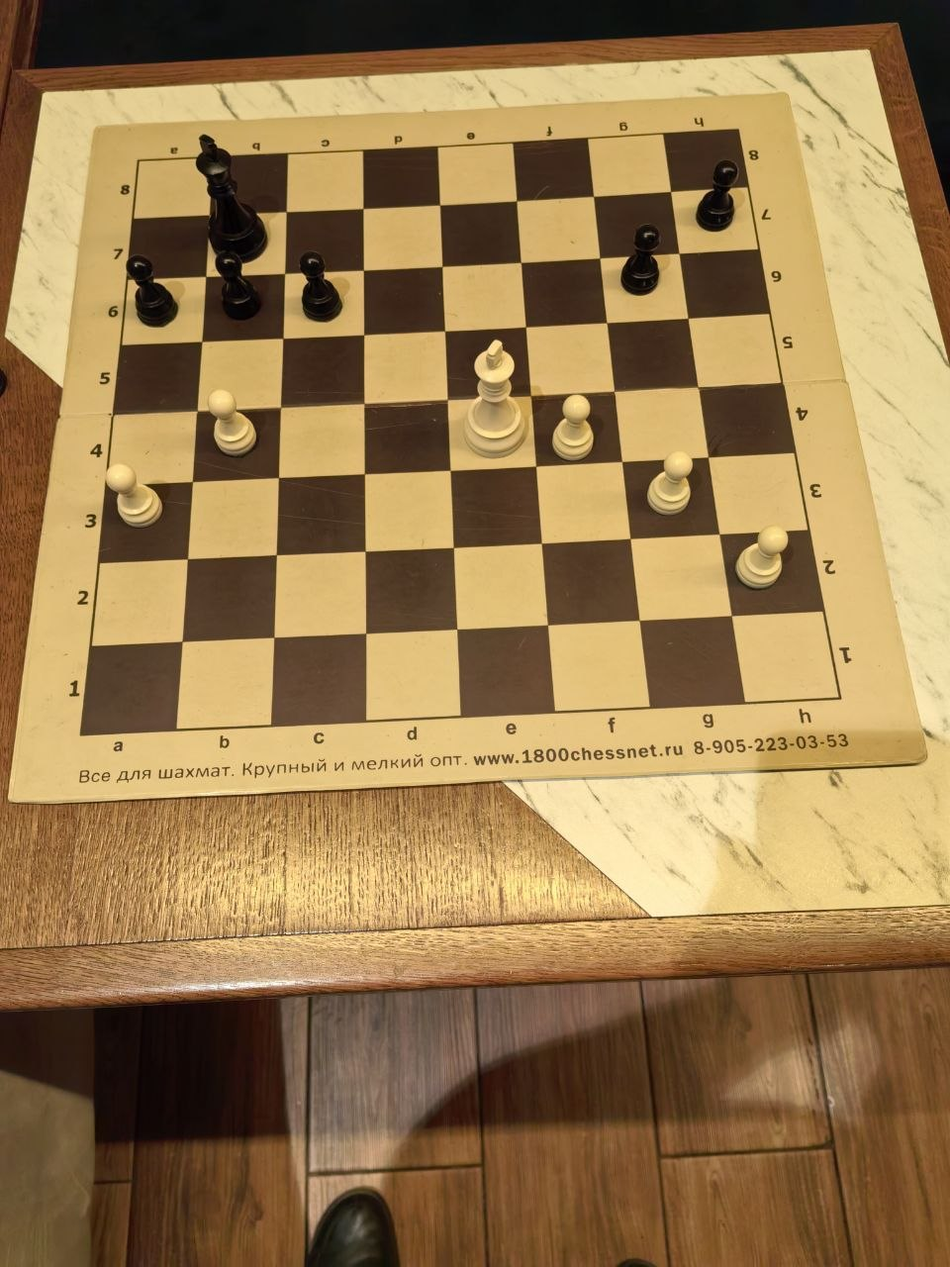black-bishop: (475, 634, 594, 792)
black-rook: (831, 950, 950, 1109), (119, 634, 238, 792), (0, 792, 119, 950), (712, 792, 831, 950), (594, 634, 712, 792)
white-bishop: (119, 158, 238, 317)
white-rook: (831, 158, 950, 317), (0, 317, 119, 475), (119, 317, 238, 475), (712, 317, 831, 475), (238, 317, 356, 475)
